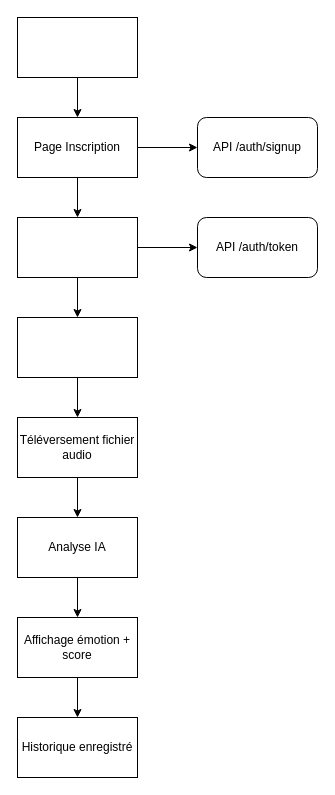
Some shapes in this 335 by 795 pixel diagram are drawn without their labels. Each missing label, with the centre of its shape:
"Dashboard sécurisé" belongs at pixel 77 347.
"Page Connexion" belongs at pixel 77 247.
"Utilisateur" belongs at pixel 77 47.
